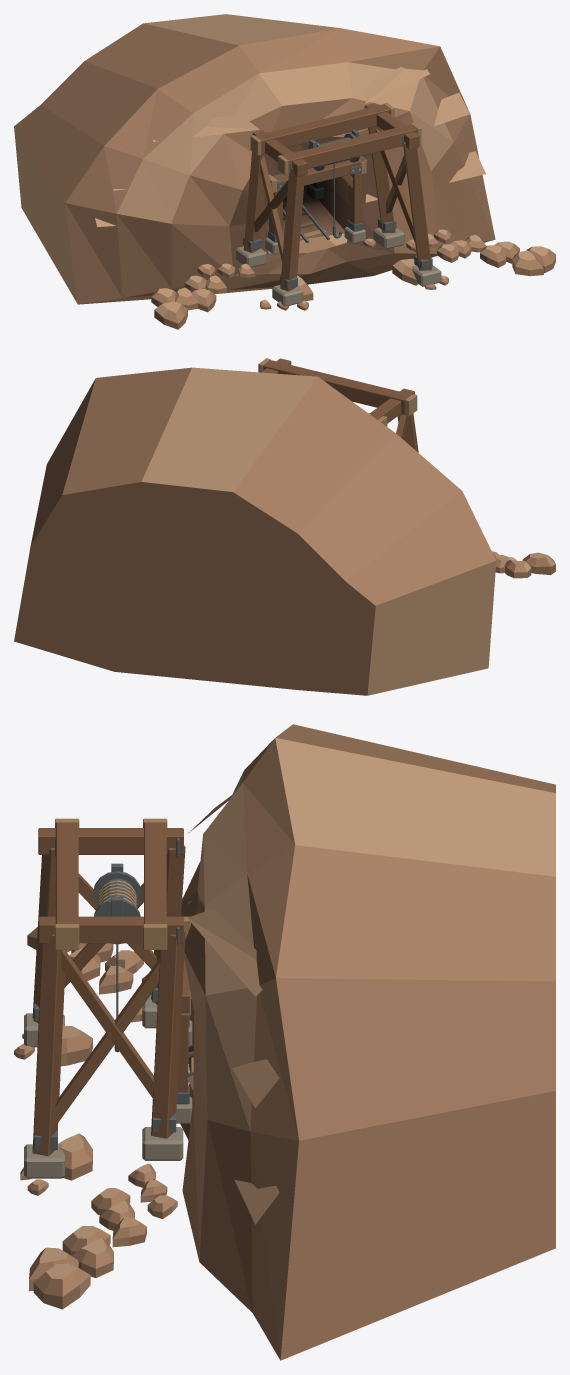
File: mine-v1-B6jQ5ZIS.glb
The picture shows the model from 3 angles, top to bottom: view 1: azimuth 30°, elevation 25°; view 2: azimuth 150°, elevation 25°; view 3: azimuth 270°, elevation 25°; orthographic projection. The views are drawn at different scales.
Parts seen in each view (by area): view 1: mine-static-structure; view 2: mine-static-structure; view 3: mine-static-structure.
Boxes of the visible parts, x1,y1,x2,y2 form: mine-static-structure: [14, 14, 555, 329]; mine-static-structure: [14, 358, 555, 695]; mine-static-structure: [14, 724, 555, 1360].
Size of the model in its own units: 525 by 311 by 357.
